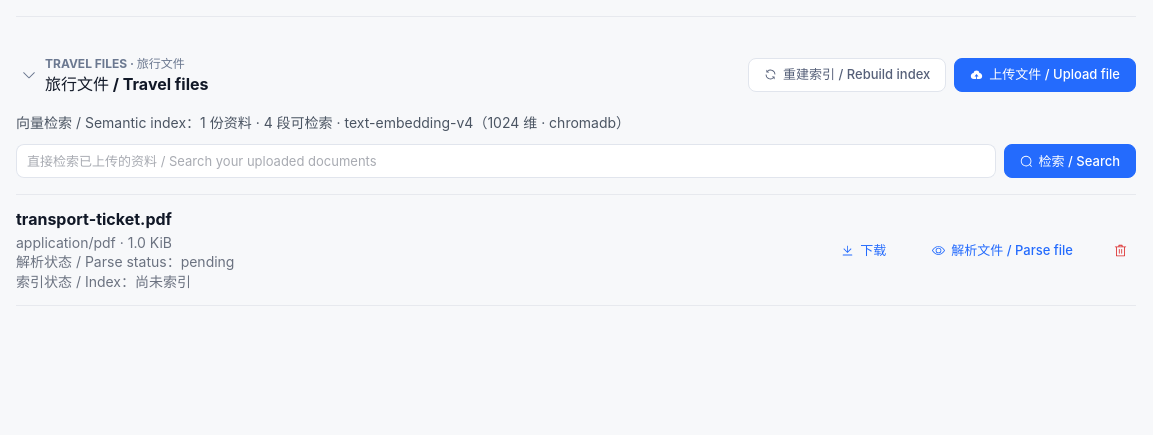
Test: TripFiles › shows the excerpt and similarity a document search returned
Type "我订的酒店什么时候入住" into the field with placeholder "直接检索已上传的资料 / Search your uploaded documents" at (506, 161), box [27, 146, 985, 176]
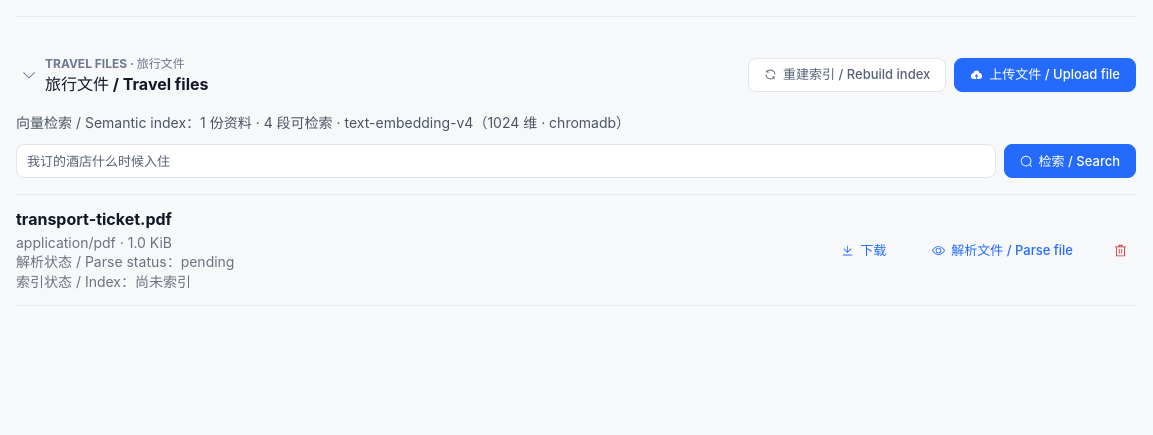
Click the button "检索 / Search" at (1070, 161), box [1004, 144, 1136, 178]
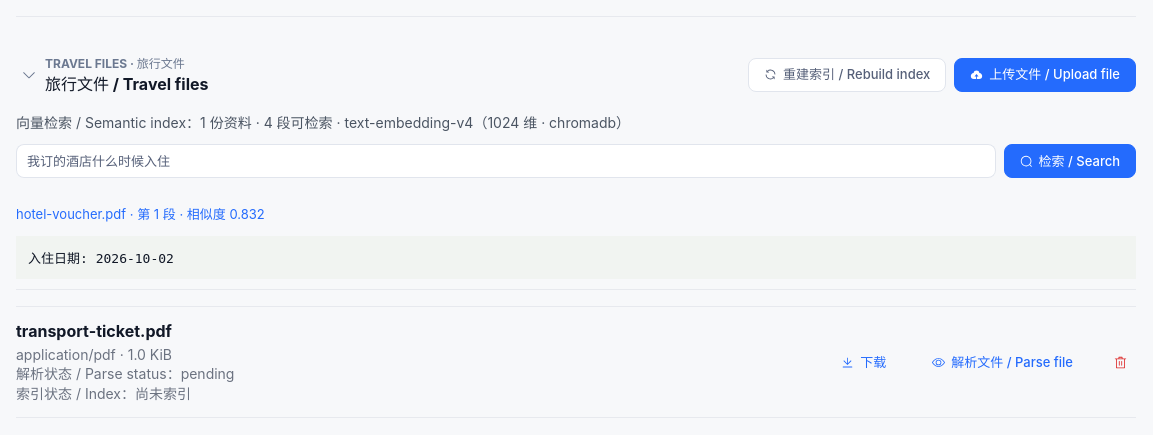
Expected: the text "hotel-voucher.pdf" is shown, [16, 206, 265, 222]
Expected: the text "入住日期: 2026-10-02" is shown, [16, 236, 1136, 279]
Expected: the text "0.832" is shown, [16, 206, 265, 222]
